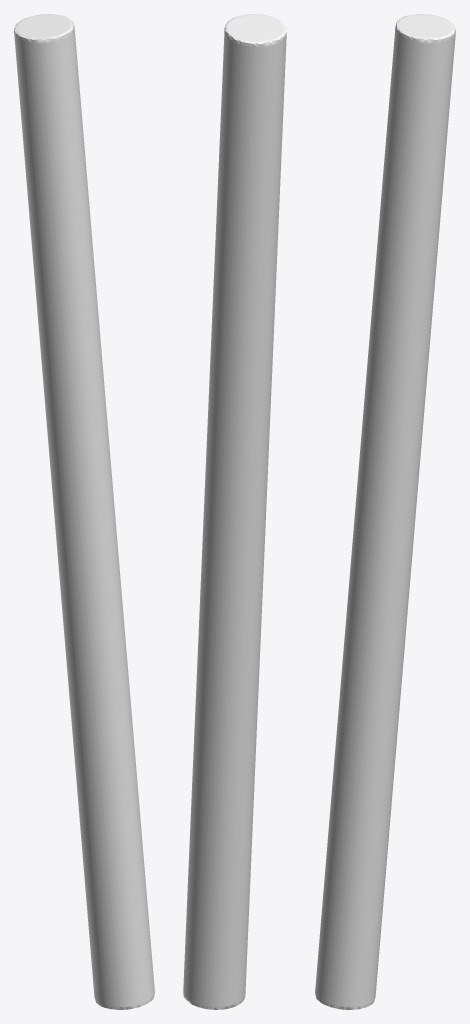
The model's file is ZuriLollipopStick.obj.
3 views of the same model, side by side, from view 1: azimuth 90°, elevation 25°; view 2: azimuth 210°, elevation 25°; view 3: azimuth 270°, elevation 25° (orthographic). The views are drawn at different scales.
Visible parts, largest first — view 1: model_2; view 2: model_2; view 3: model_2.
Part boxes in pixels (x1,y1,x2,y2): model_2: (14,14,154,1009); model_2: (183,14,286,1009); model_2: (315,14,455,1009).
Size of the model in its own units: 17.01 by 302 by 39.47.
Materials: 1 (1 with a texture image).
